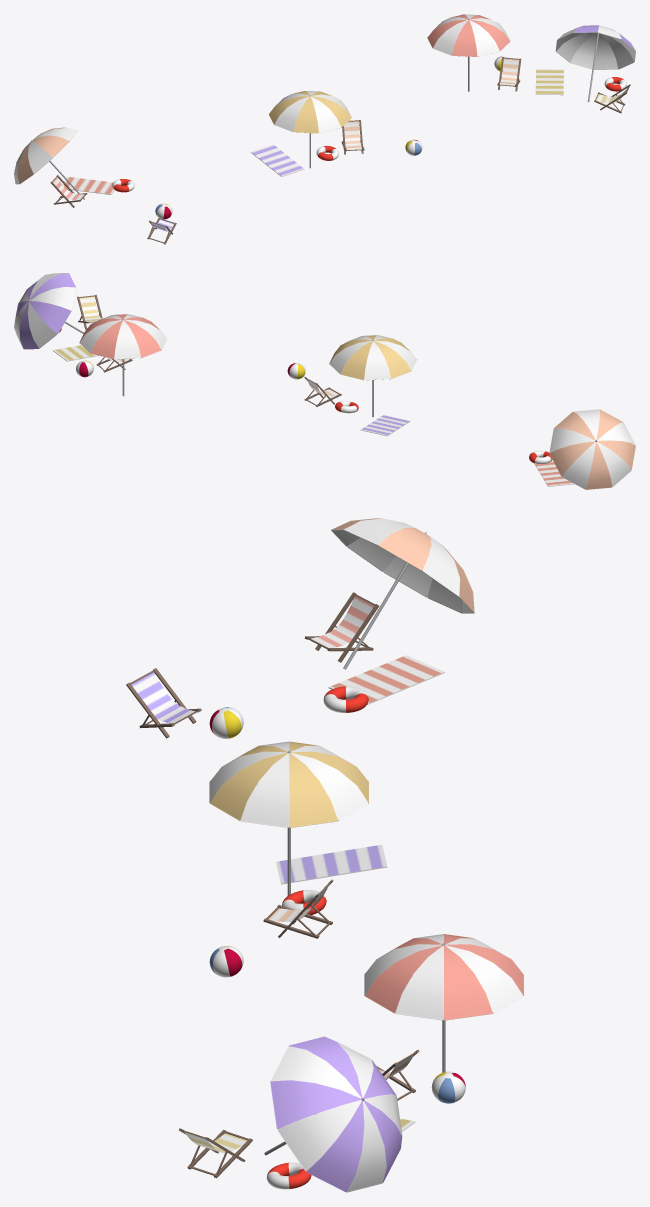
Rendered from umbrella.glb.
3 renders of one model, top to bottom at view 1: azimuth 30°, elevation 25°; view 2: azimuth 150°, elevation 25°; view 3: azimuth 270°, elevation 25°, orthographic. The views are drawn at different scales.
Visible parts, largest first — view 1: Umbrella_geo_04, Umbrella_geo_02, Umbrella_geo_03, Umbrella_geo_01, Seat_geo (×2), Towel_geo_02, Towel_geo_03, Towel_geo_01; view 2: Umbrella_geo_01, Umbrella_geo_04, Umbrella_geo_03, Umbrella_geo_02, Towel_geo_02, Towel_geo_01, Towel_geo_03, Seat_geo; view 3: Umbrella_geo_04, Umbrella_geo_02, Umbrella_geo_03, Umbrella_geo_01, Seat_geo (×2), Towel_geo_02, Towel_geo_01, Life_Ring_geo_01, Life_Ring_geo_03.
Boxes of the visible parts, x1,y1,x2,y2 form: Umbrella_geo_04: [555, 25, 635, 101]; Umbrella_geo_02: [269, 91, 351, 168]; Umbrella_geo_03: [427, 14, 510, 91]; Umbrella_geo_01: [14, 127, 84, 199]; Seat_geo (×2): [344, 58, 518, 150]; Towel_geo_02: [250, 144, 304, 176]; Towel_geo_03: [535, 69, 563, 95]; Towel_geo_01: [62, 176, 114, 194]; Umbrella_geo_01: [549, 409, 635, 489]; Umbrella_geo_04: [14, 273, 83, 349]; Umbrella_geo_03: [79, 314, 167, 396]; Umbrella_geo_02: [329, 335, 416, 417]; Towel_geo_02: [360, 415, 410, 436]; Towel_geo_01: [534, 461, 574, 486]; Towel_geo_03: [52, 345, 98, 361]; Seat_geo: [79, 296, 101, 321]; Umbrella_geo_04: [264, 1036, 402, 1192]; Umbrella_geo_02: [209, 741, 368, 895]; Umbrella_geo_03: [364, 934, 523, 1072]; Umbrella_geo_01: [331, 518, 474, 669]; Seat_geo (×2): [131, 596, 374, 723]; Towel_geo_02: [276, 844, 387, 884]; Towel_geo_01: [328, 655, 444, 704]; Life_Ring_geo_01: [323, 686, 368, 712]; Life_Ring_geo_03: [266, 1162, 311, 1189].
Size of the model in its own units: 21.67 by 2.77 by 6.26.
23 materials, 23 textured.
